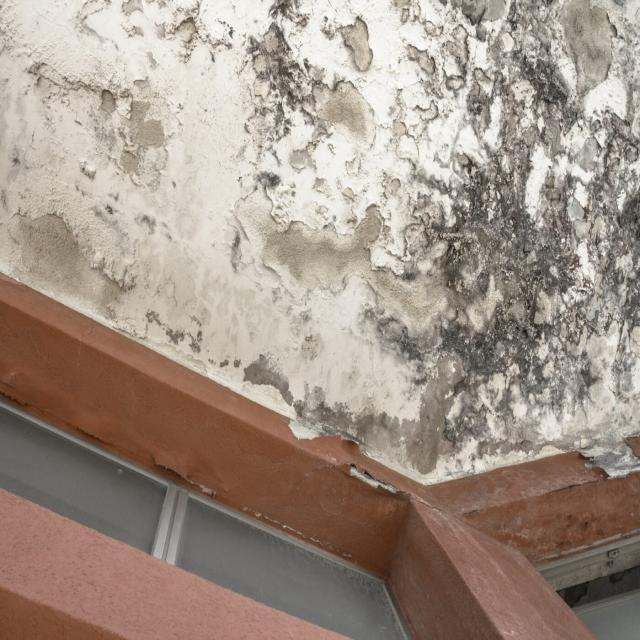dampness: (4, 0, 638, 487)
